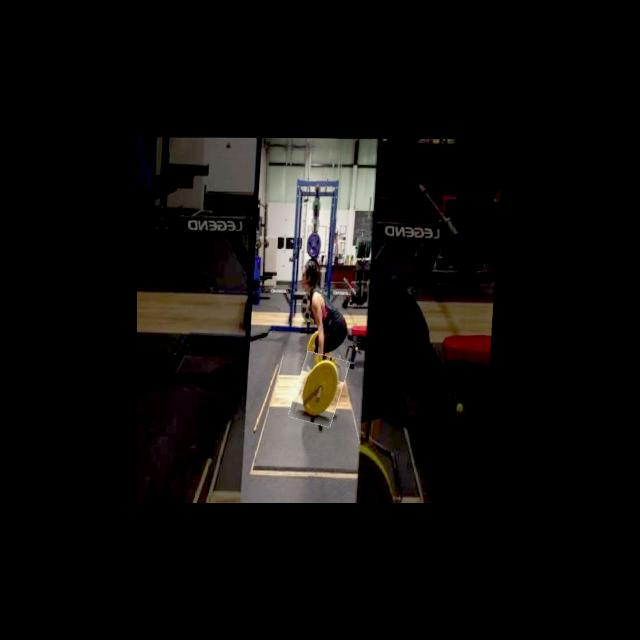barbell: (295, 353, 350, 425)
